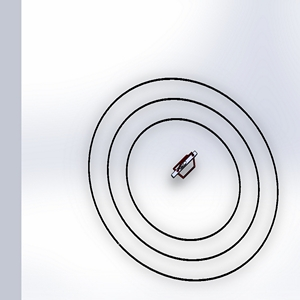circle: (83, 75, 285, 284), (165, 146, 213, 194)
